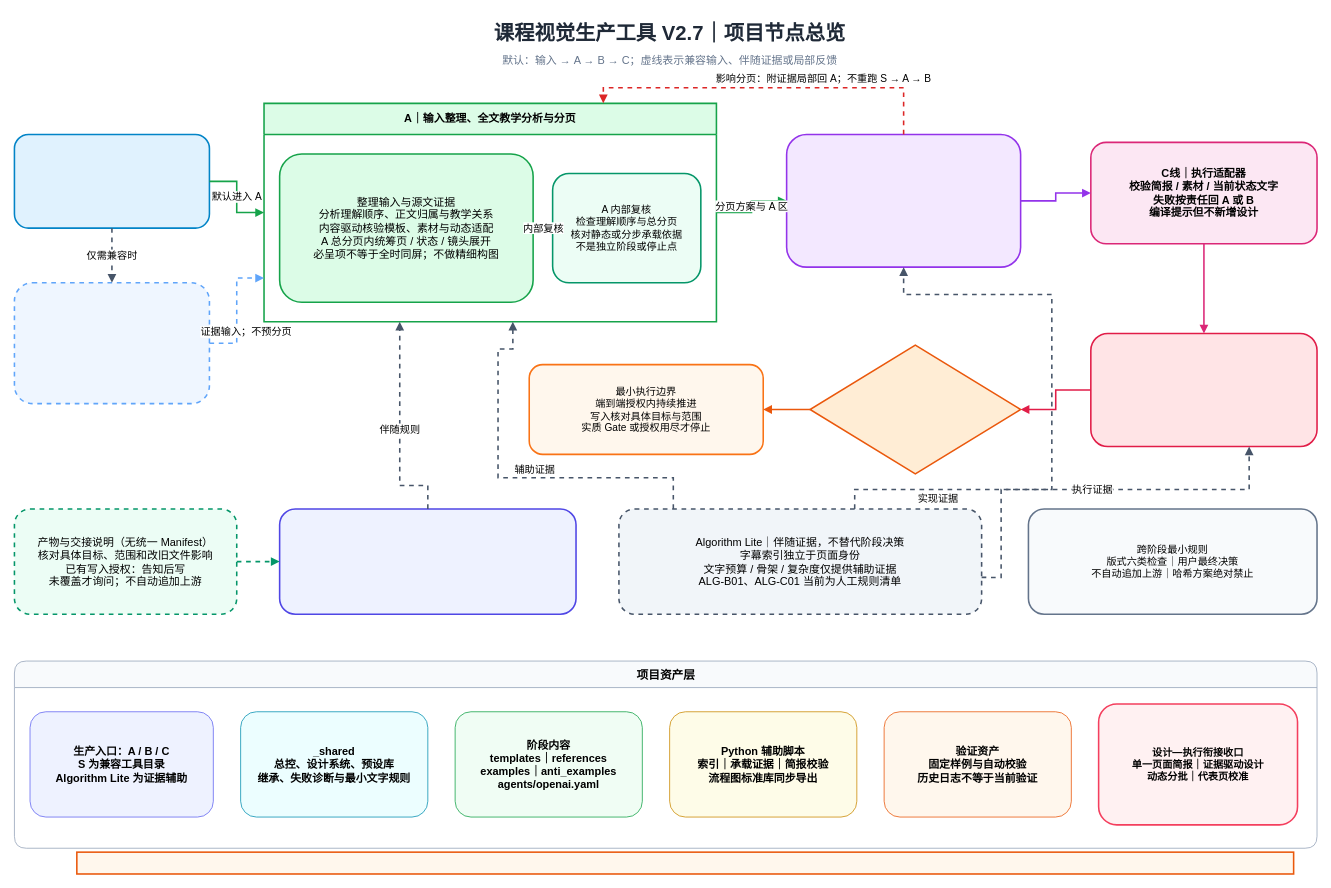
The diagram is 1331 pixels wide and 888 high, and some of its shapes have lost their labels. Here are the shapes that lost their labels. From the top down, the centre of each, then its label:
At [111,181]: "输入材料与有效批准 原文 / 事实 / 素材 证据独立于页界和页数".
At [903,200]: "B｜内容驱动的视觉实现 落实 A 总分页内的分步展开 完整主方案；真实证据或明确无素材 无匹配内构案例可代表页校准 纯实现留 B；分页 / 教学问题回 A".
At [111,343]: "S｜非默认兼容输入工具 仅处理字幕索引或既有 S 产物 不创建提前 page_id 不决定页界、页数或教学关系".
At [915,409]: "授权 / 定稿 Gate 代表确认 ≠ 非代表生图批准 候选 ≠ final_course_visual 最终定稿须明确确认".
At [1203,389]: "C线｜生成与局部修改 代表页确认后核对非代表首轮授权 列名授权有效才扩展本批 候选 / 样张组装不等于定稿".
At [427,561]: "共享最小规则 course-visual-production-v2.7.md 内容先证据；有效批准复用 用户 Gate 只处理真实未决授权".
At [685,862]: "有效 Markdown 规则为执行依据，图须同步；SVG 为派生预览，冲突需修正，不以图替代规则。".
